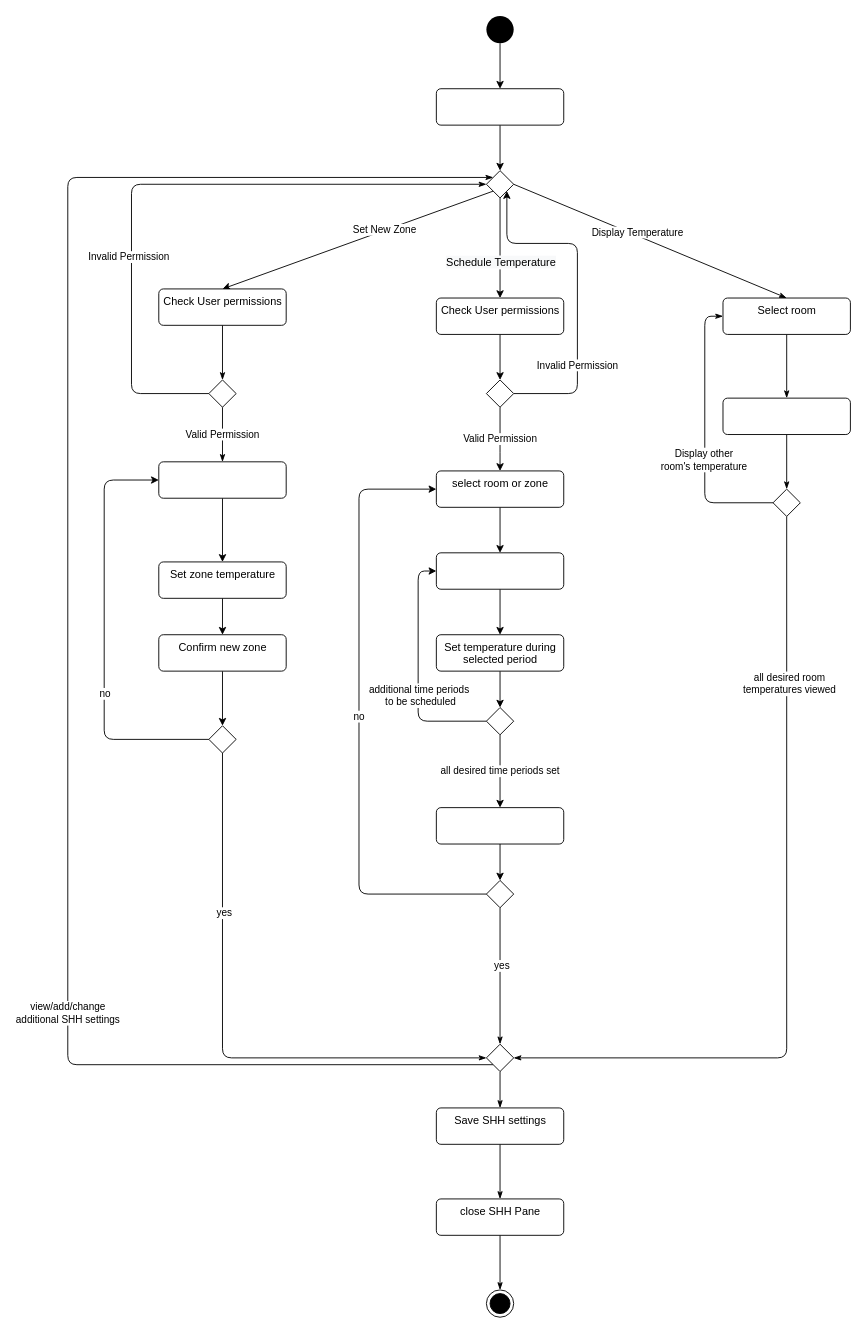
This 866x1333 diagram has some shape labels left out. Each missing label, with the centre of its shape:
confirm schedule: (x=499, y=825)
Open SHH Pane: (x=499, y=106)
Select time period: (x=499, y=570)
selected room's temperature displayed: (x=786, y=416)
Set room for new zone: (x=222, y=479)
